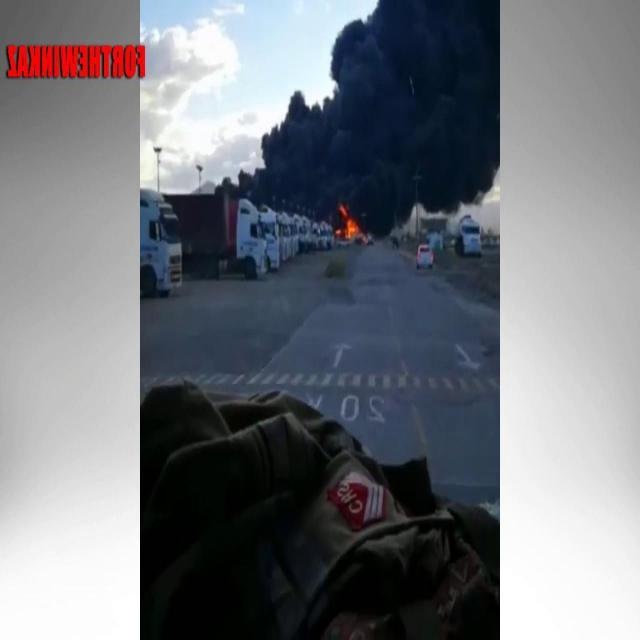Fire: (336, 210, 362, 242)
